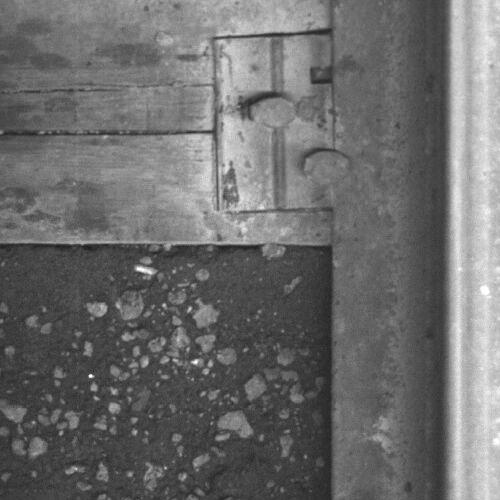do: (214, 31, 350, 211)
rail: (445, 1, 500, 500)
tie_wood: (1, 1, 330, 244)
wood_crack: (1, 122, 216, 142)
